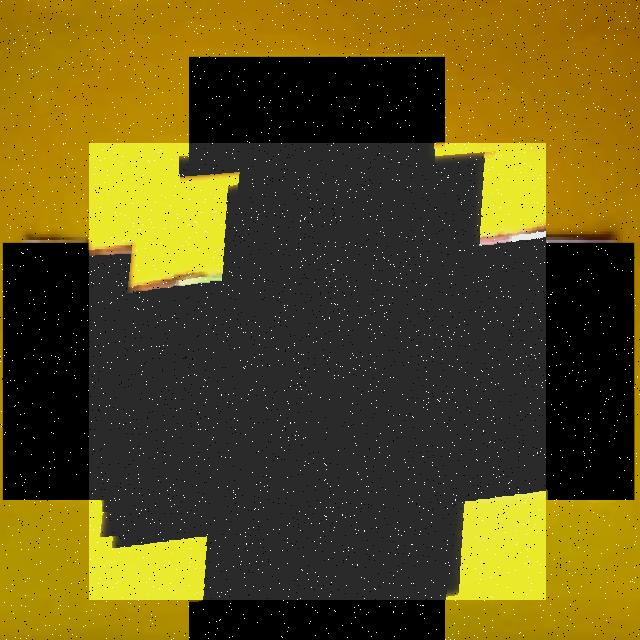lima puluh ribu rupiah: (89, 143, 546, 600)
